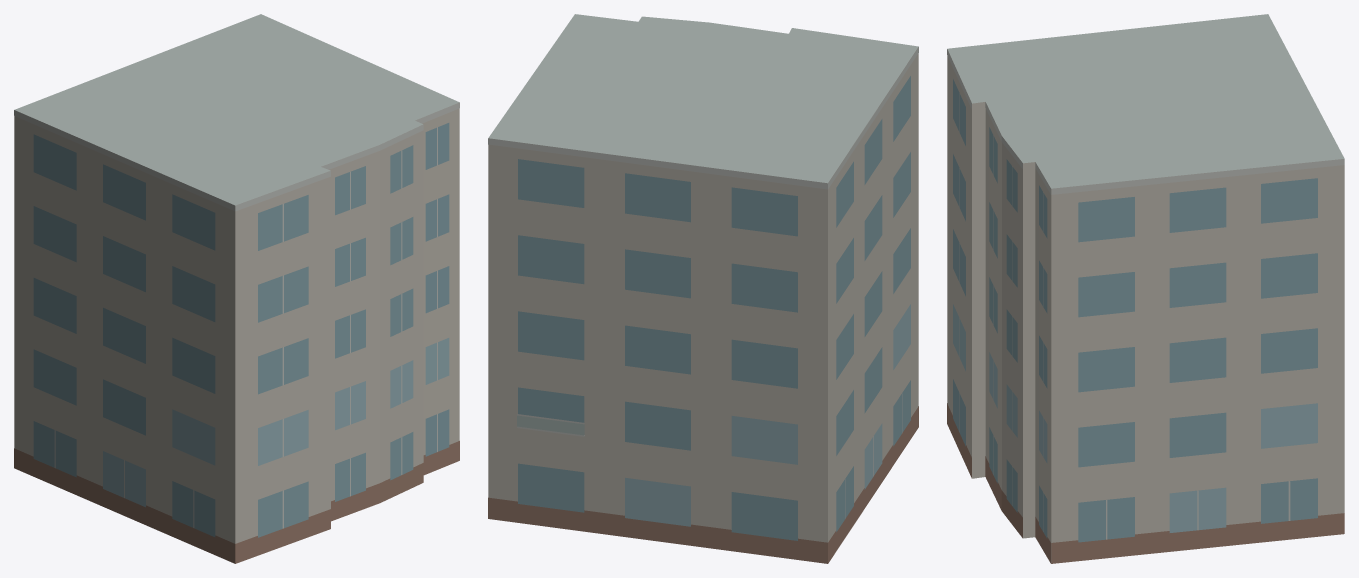
Rendered from survey-upis-32991688.glb.
The picture shows the model from 3 angles, left to right: view 1: azimuth 30°, elevation 25°; view 2: azimuth 150°, elevation 25°; view 3: azimuth 270°, elevation 25°; orthographic projection. The views are drawn at different scales.
Parts seen in each view (by area): view 1: survey-upis-32991688.tmp; view 2: survey-upis-32991688.tmp; view 3: survey-upis-32991688.tmp.
Boxes of the visible parts, left/top/right/bottom form: survey-upis-32991688.tmp: left=14, top=14, right=459, bottom=563; survey-upis-32991688.tmp: left=488, top=14, right=918, bottom=563; survey-upis-32991688.tmp: left=947, top=14, right=1344, bottom=563.
Size of the model in its own units: 14.69 by 14.7 by 14.13.
